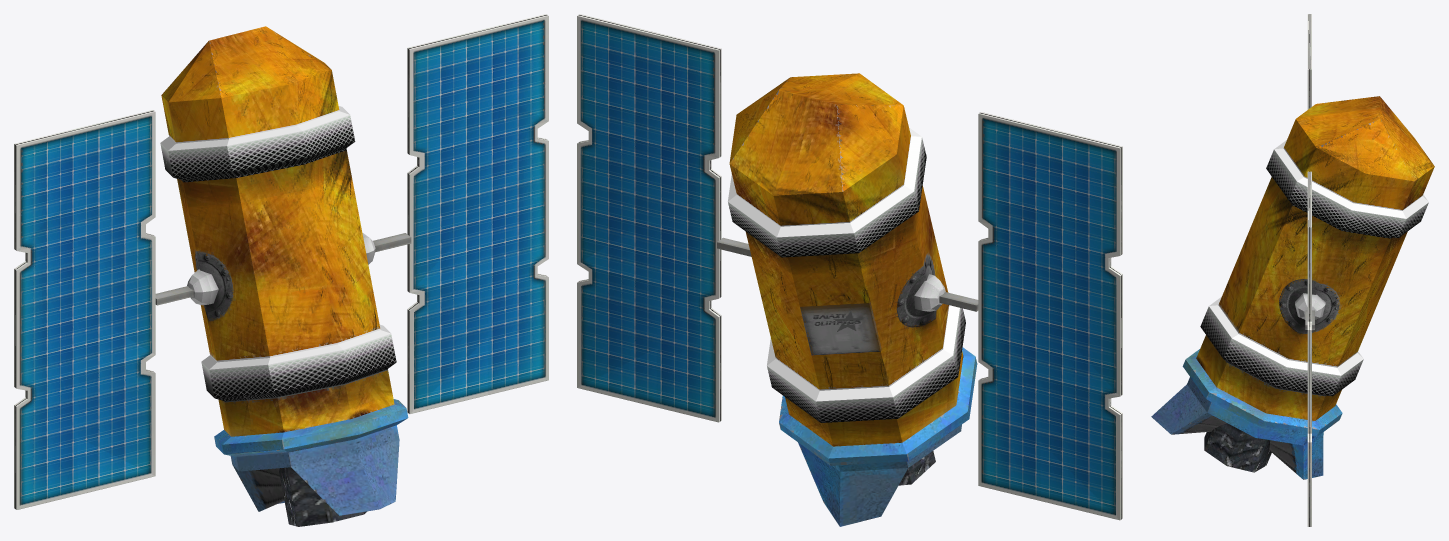
Rendered from Satelitex.DAE.
3 views of the same model, side by side, from view 1: azimuth 30°, elevation 25°; view 2: azimuth 150°, elevation 25°; view 3: azimuth 270°, elevation 25° (orthographic). The views are drawn at different scales.
Parts seen in each view (by area): view 1: satelitex; view 2: satelitex; view 3: satelitex.
Boxes of the visible parts, x1,y1,x2,y2 form: satelitex: [14, 14, 548, 526]; satelitex: [577, 14, 1122, 526]; satelitex: [1151, 14, 1434, 526].
Size of the model in its own units: 5.94 by 3.34 by 4.77.
1 material, 1 textured.
